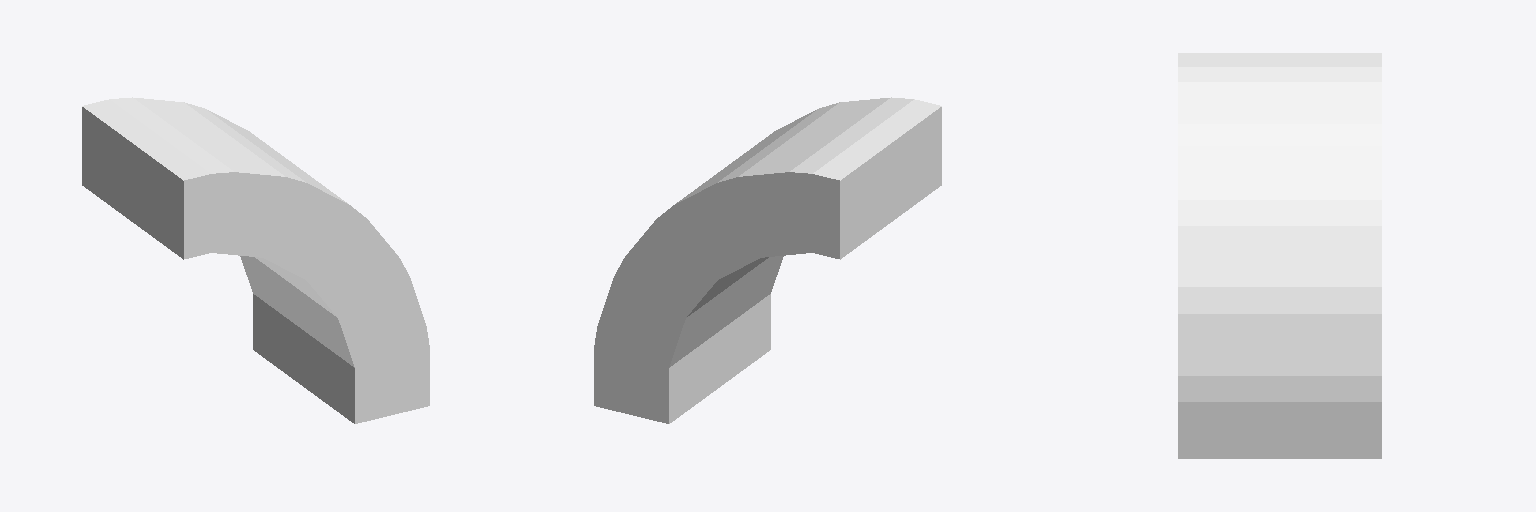
The model's file is smooth_round_arch_2.obj.
3 views of the same model, side by side, from view 1: azimuth 30°, elevation 25°; view 2: azimuth 150°, elevation 25°; view 3: azimuth 270°, elevation 25° (orthographic).
Visible parts, largest first — view 1: cube; view 2: cube; view 3: cube.
Part boxes in pixels (bbox=[...]): cube: bbox=[82, 97, 429, 423]; cube: bbox=[594, 97, 941, 423]; cube: bbox=[1178, 53, 1381, 458].
Size of the model in its own units: 1.43 by 1.58 by 1.02.